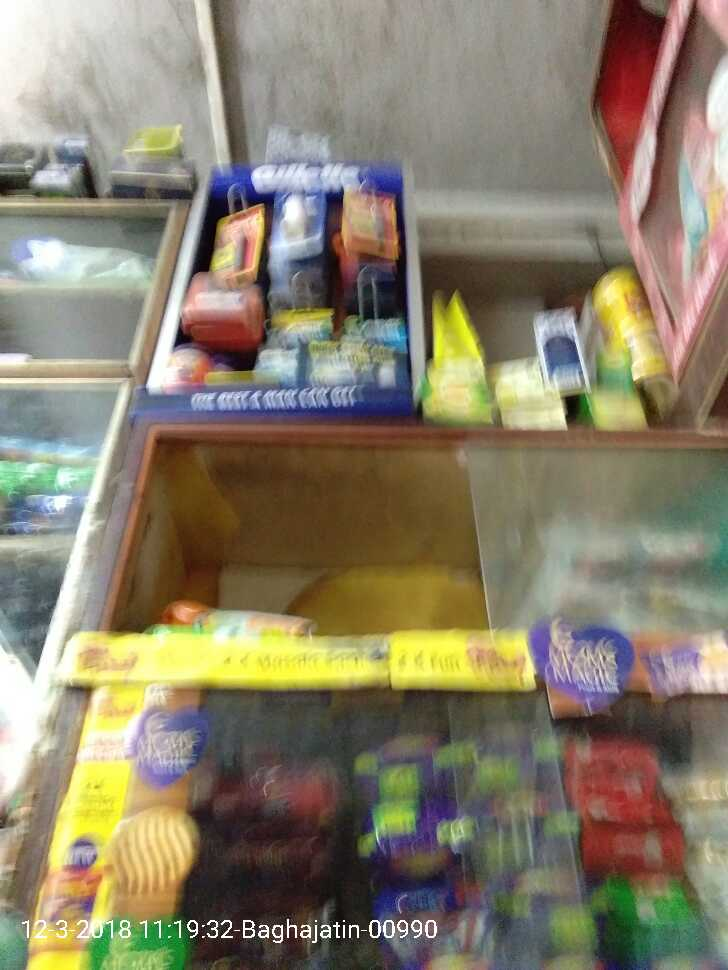reject: (170, 398, 357, 548)
